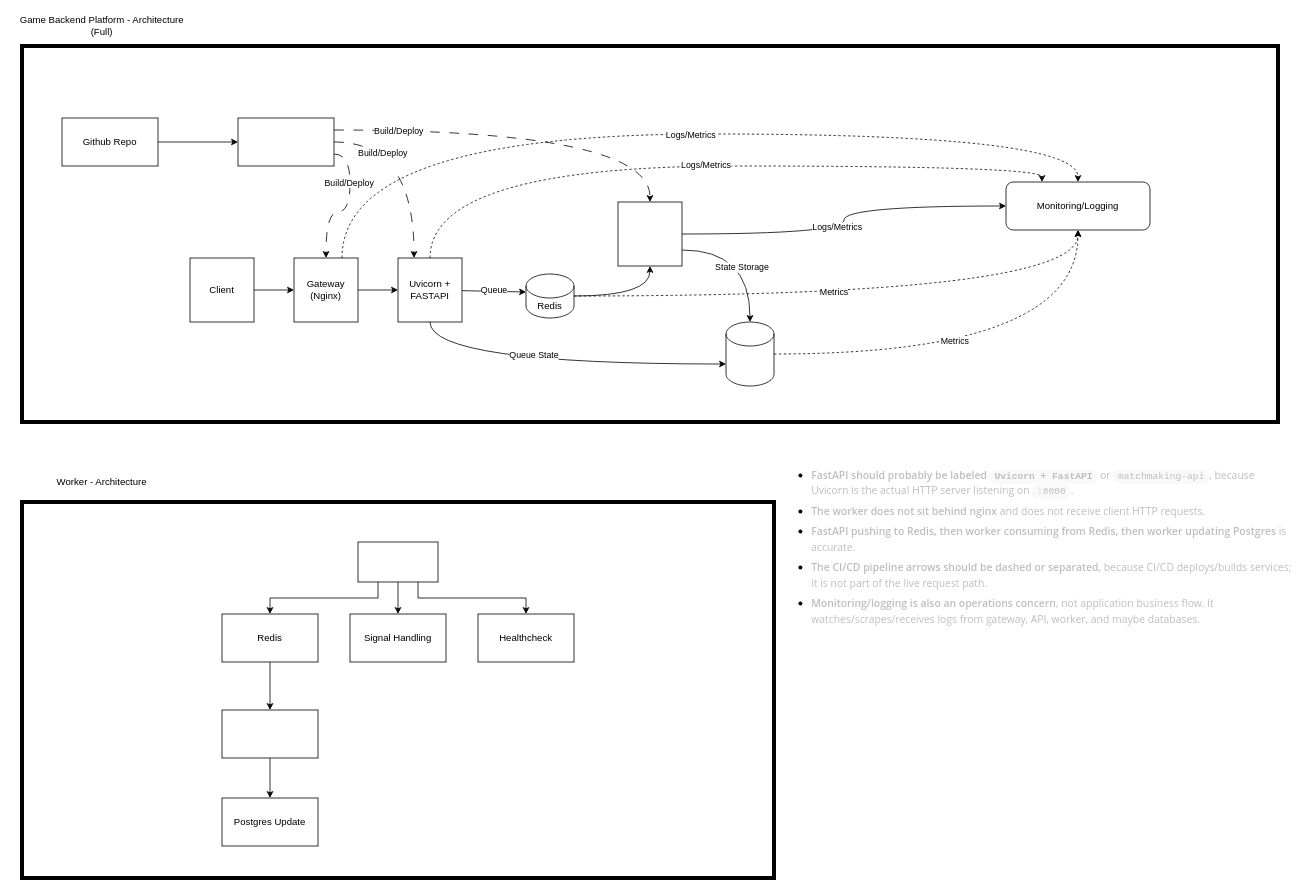
Image size: 1307x894. Some labels were removed from this diagram. The shapes that lost their labels are listed below. From the top down, each one's centre as x and y in pixels, then its label:
At pixel 285 141: "CI/CD Pipeline".
At pixel 649 233: "Worker Service".
At pixel 749 353: "Postgres".
At pixel 397 561: "Worker".
At pixel 269 733: "Match processing handler".
